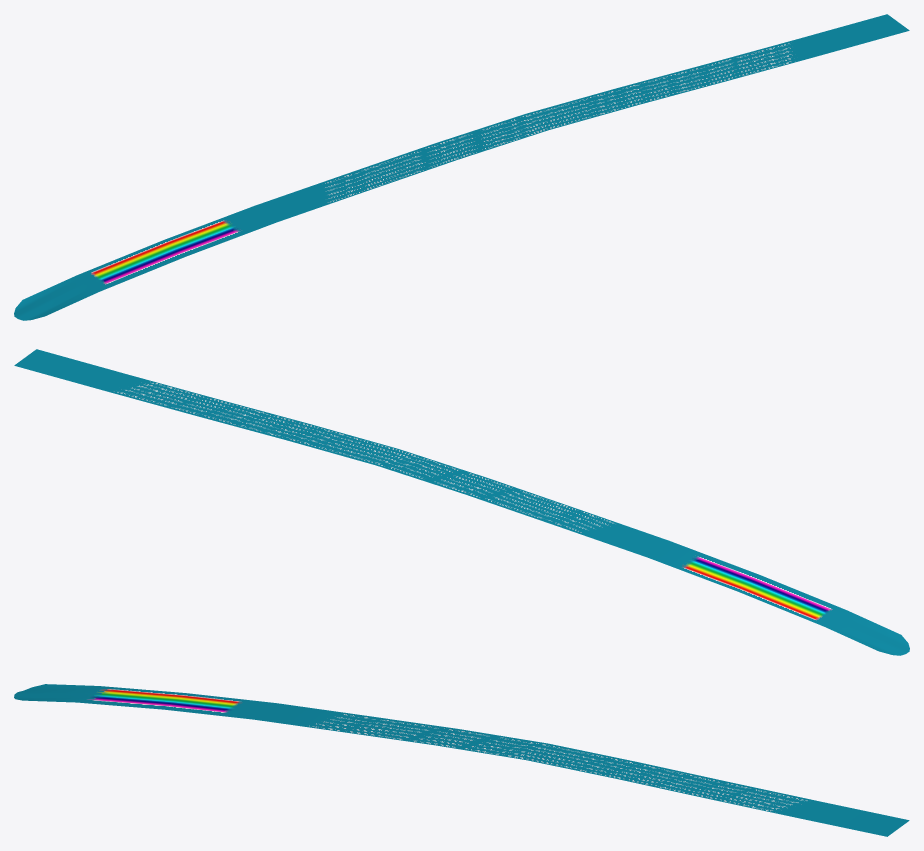
The model's file is Meter_PS_Bar_1.obj.
3 views of the same model, one above another, from view 1: azimuth 30°, elevation 25°; view 2: azimuth 150°, elevation 25°; view 3: azimuth 330°, elevation 25° (orthographic).
Visible parts, largest first — view 1: Plane02; view 2: Plane02; view 3: Plane02.
Boxes of the visible parts, x1=… form: Plane02: x1=14, y1=14, x2=909, y2=320; Plane02: x1=14, y1=349, x2=909, y2=655; Plane02: x1=14, y1=684, x2=909, y2=836.
Bounding box in the file's own units: 123 × 10.71 × 5.47.
